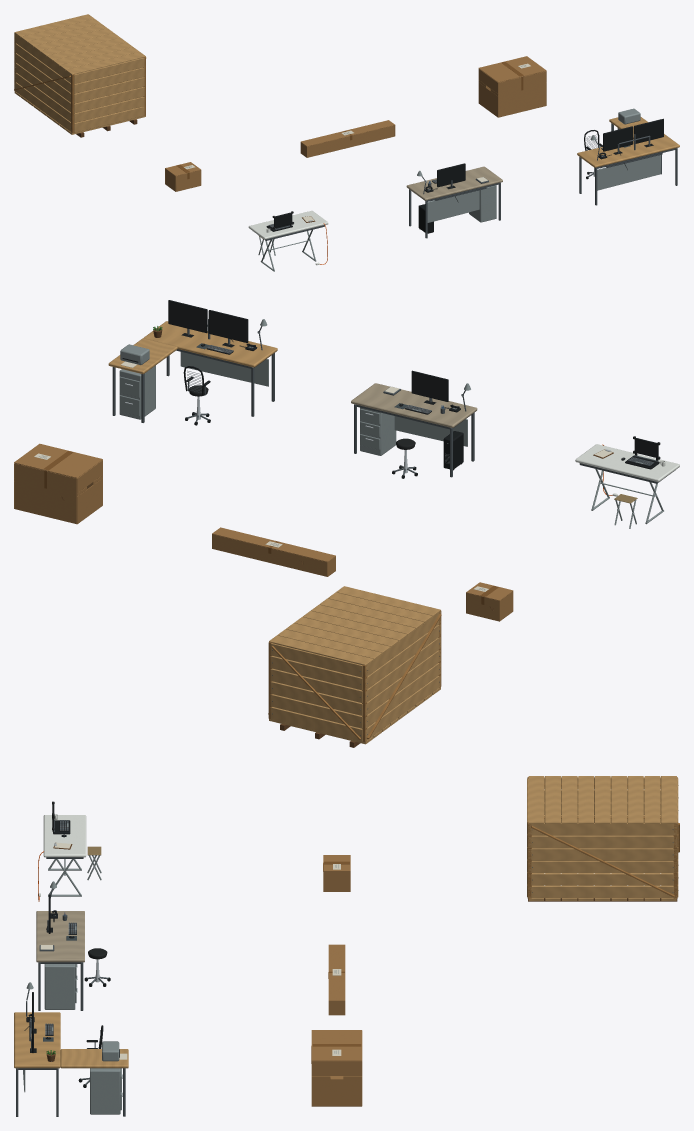
Rendered from 33_ShopDesksAndDeliveries.gltf.
3 views of the same model, one above another, from view 1: azimuth 30°, elevation 25°; view 2: azimuth 150°, elevation 25°; view 3: azimuth 270°, elevation 25° (orthographic). The views are drawn at different scales.
Visible parts, largest first — view 1: DeliveryCrate__Lid, DeliveryCrate__BackPanel, DeliveryCrate__Body, DeliveryBoxLarge__Body, JobOfficeDesk__Clutter, JobOfficeDesk__Body, JobOfficeDesk__Top, JobComputerDesk__Top, JobComputerDesk__Body, DeliveryBoxLong__Body, JobComputerDesk__Clutter, JobLaptopTable__Top (+6 smaller); view 2: DeliveryCrate__Lid, DeliveryCrate__FrontPanel, DeliveryCrate__Body, DeliveryBoxLarge__Body, JobComputerDesk__Top, JobOfficeDesk__Top, DeliveryBoxLong__Body, JobLaptopTable__Top, JobOfficeDesk__Cabinet, JobOfficeDesk__Clutter, JobOfficeDesk__Body, JobComputerDesk__Cabinet (+13 smaller); view 3: DeliveryCrate__Body, DeliveryCrate__Lid, DeliveryBoxLarge__Body, JobOfficeDesk__Top, JobComputerDesk__Top, JobLaptopTable__Top, JobComputerDesk__Cabinet, JobOfficeDesk__Cabinet, JobOfficeDesk__ReturnTop, JobOfficeDesk__Clutter, DeliveryBoxLong__Lid, DeliveryBoxLarge__FlapR (+4 smaller).
Part boxes in pixels (x1,y1,x2,y2): DeliveryCrate__Lid: (14,14,145,74); DeliveryCrate__BackPanel: (74,58,144,132); DeliveryCrate__Body: (14,33,146,137); DeliveryBoxLarge__Body: (478,69,546,117); JobOfficeDesk__Clutter: (590,108,663,169); JobOfficeDesk__Body: (581,148,675,190); JobOfficeDesk__Top: (577,134,679,167); JobComputerDesk__Top: (406,166,502,200); JobComputerDesk__Body: (413,183,498,222); DeliveryBoxLong__Body: (300,125,395,157); JobComputerDesk__Clutter: (417,163,488,233); JobLaptopTable__Top: (248,210,328,239); DeliveryCrate__Lid: (269,586,440,665); DeliveryCrate__FrontPanel: (270,643,362,741); DeliveryCrate__Body: (268,611,441,747); DeliveryBoxLarge__Body: (14,460,102,524); JobComputerDesk__Top: (351,383,477,427); JobOfficeDesk__Top: (143,321,277,367); DeliveryBoxLong__Body: (212,534,335,576); JobLaptopTable__Top: (575,444,679,481); JobOfficeDesk__Cabinet: (119,365,155,419); JobOfficeDesk__Clutter: (120,300,267,367); JobOfficeDesk__Body: (176,349,269,386); JobComputerDesk__Cabinet: (360,407,396,455); DeliveryCrate__Body: (527,777,677,901); DeliveryCrate__Lid: (528,776,676,823); DeliveryBoxLarge__Body: (311,1046,362,1106); JobOfficeDesk__Top: (14,1012,60,1068); JobComputerDesk__Top: (36,911,84,962); JobLaptopTable__Top: (43,815,86,857); JobComputerDesk__Cabinet: (44,964,77,1009); JobOfficeDesk__Cabinet: (90,1068,122,1114); JobOfficeDesk__ReturnTop: (60,1049,128,1068); JobOfficeDesk__Clutter: (24,982,127,1061); DeliveryBoxLong__Lid: (328,944,345,1000); DeliveryBoxLarge__FlapR: (311,1045,362,1061).
Size of the model in its own units: 8.07 by 1.25 by 8.78.
Materials: 2 (1 with a texture image).
